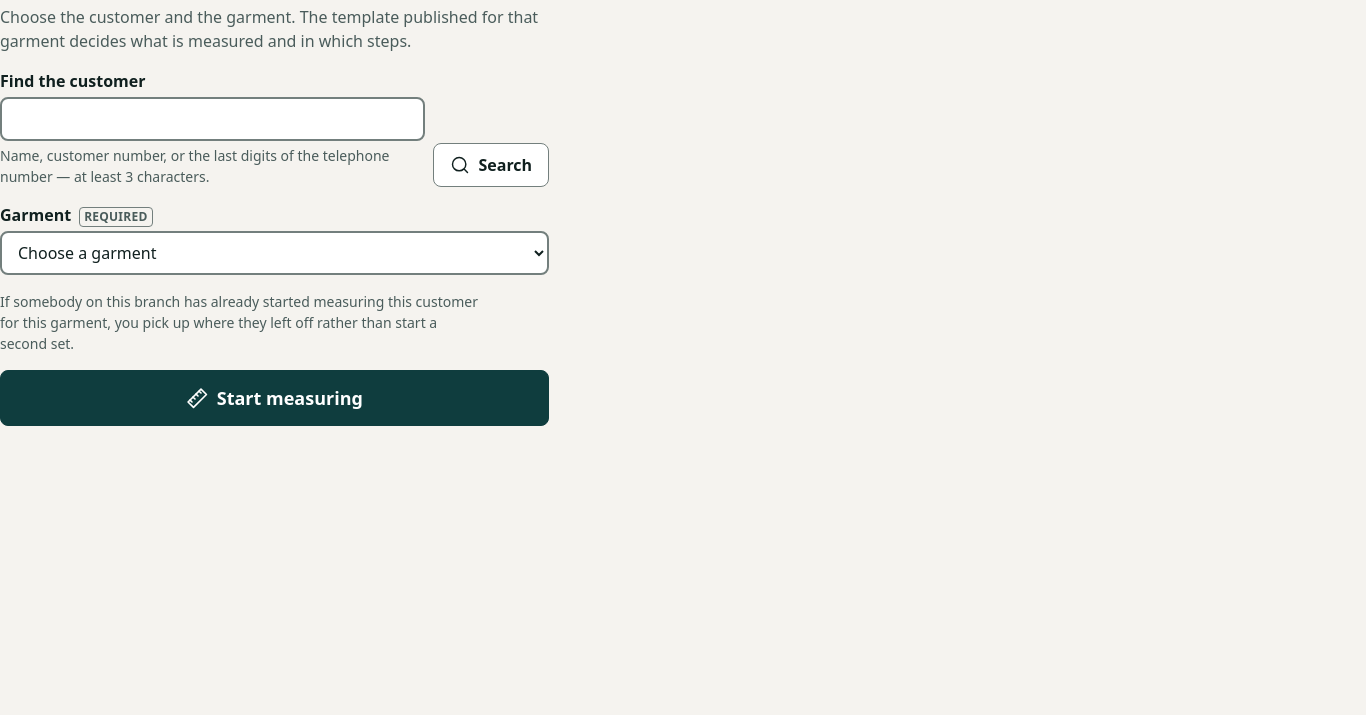
Test: reusing an earlier measurement › abandoning the reuse dialog starts nothing
Type "Asha" into the search field labelled "Find the customer" at [213, 119], box [0,97,426,141]
Then press Enter
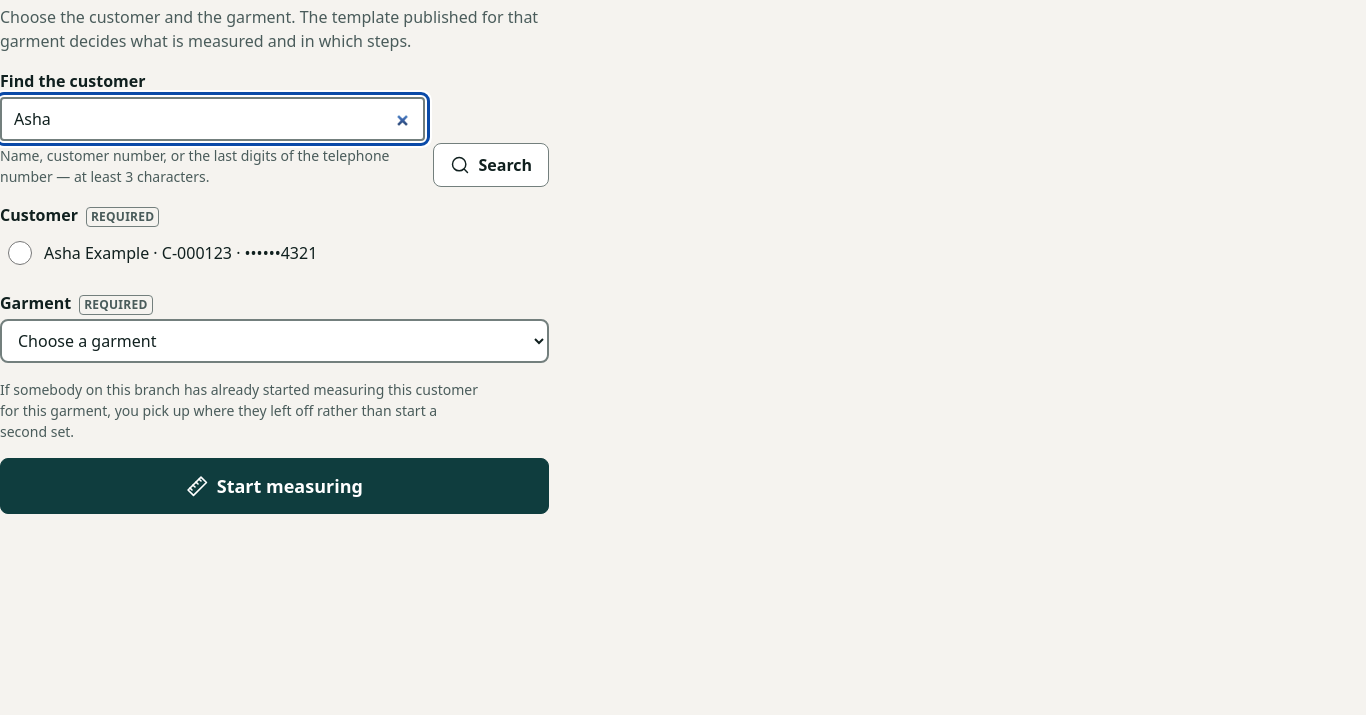
Click the radio button labelled "Asha Example · C-000123 · ••••••4321" at [20, 253], box [8,241,32,265]
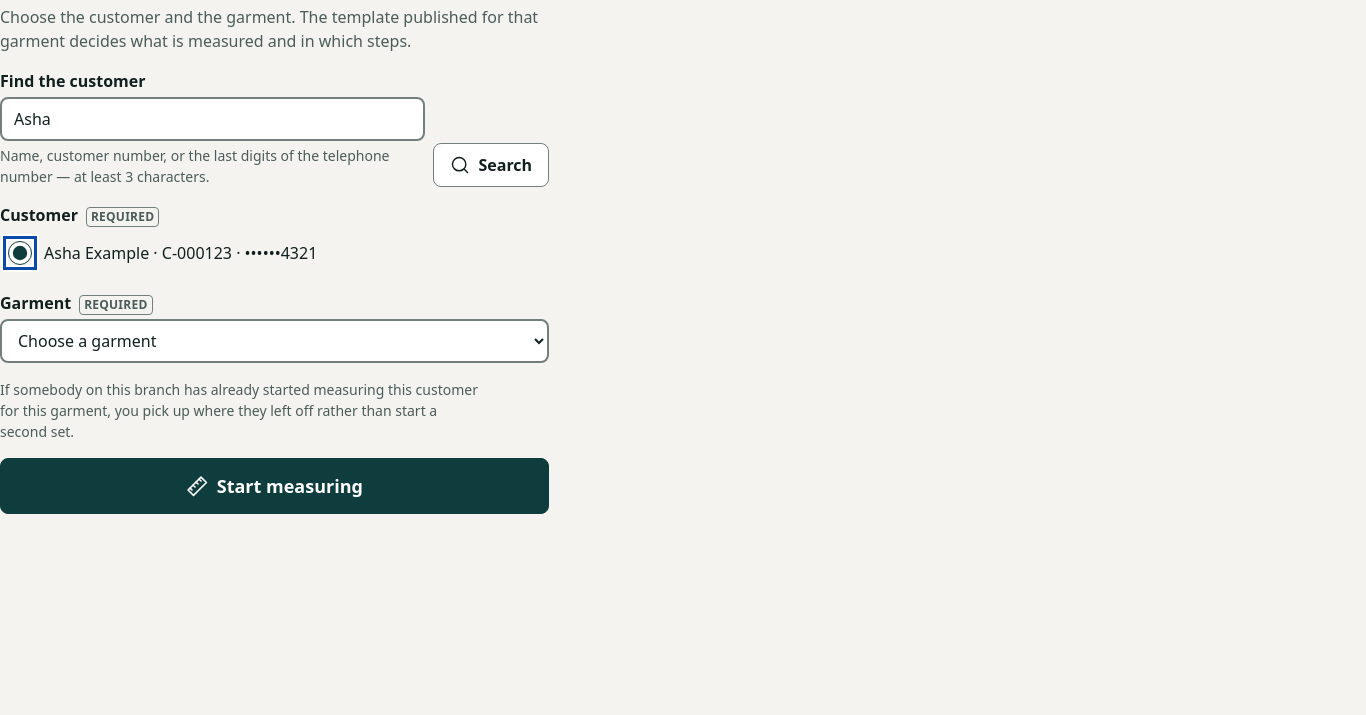
Select "Pattern work — Blouse" in the dropdown labelled "Garment" at [275, 341], box [0,319,549,363]
(page scrolled)
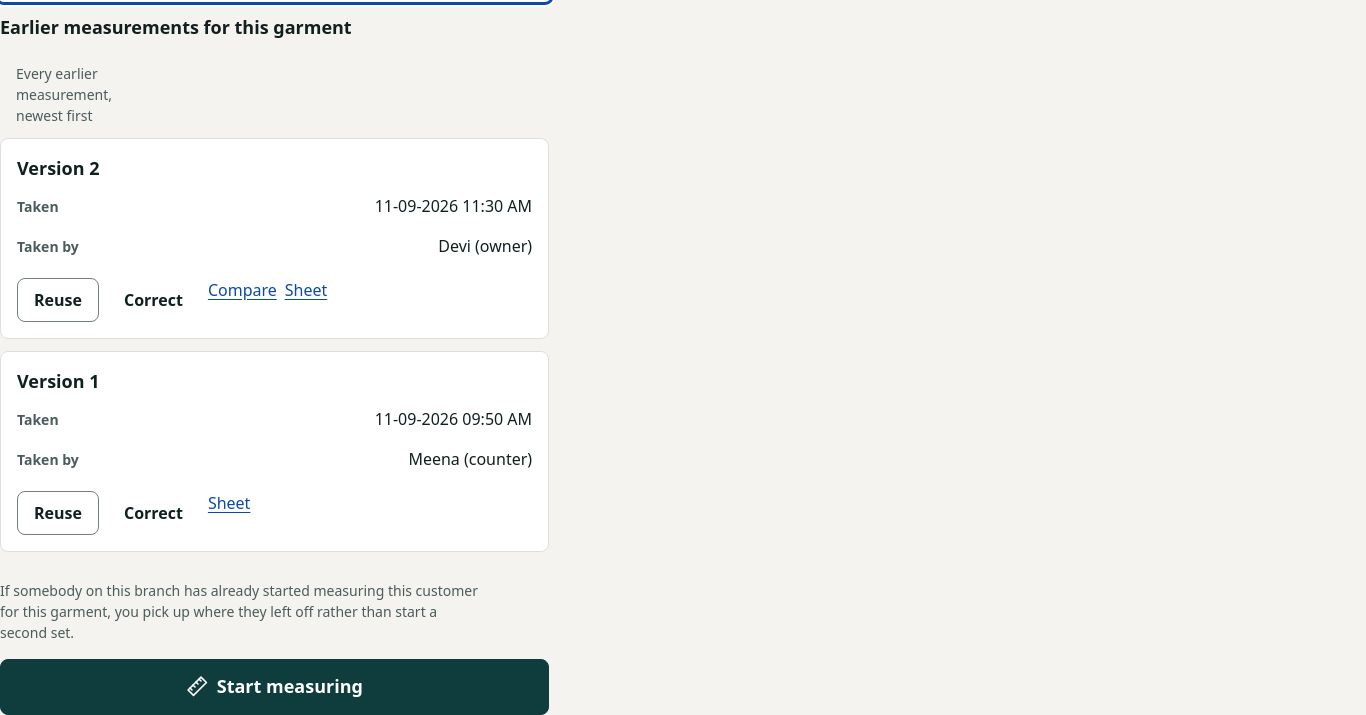
Now the heading "Earlier measurements for this garment" is shown, box [0,15,352,39]
Click the button with aria-label "Reuse version 1" at [58, 513], box [17,491,99,535]
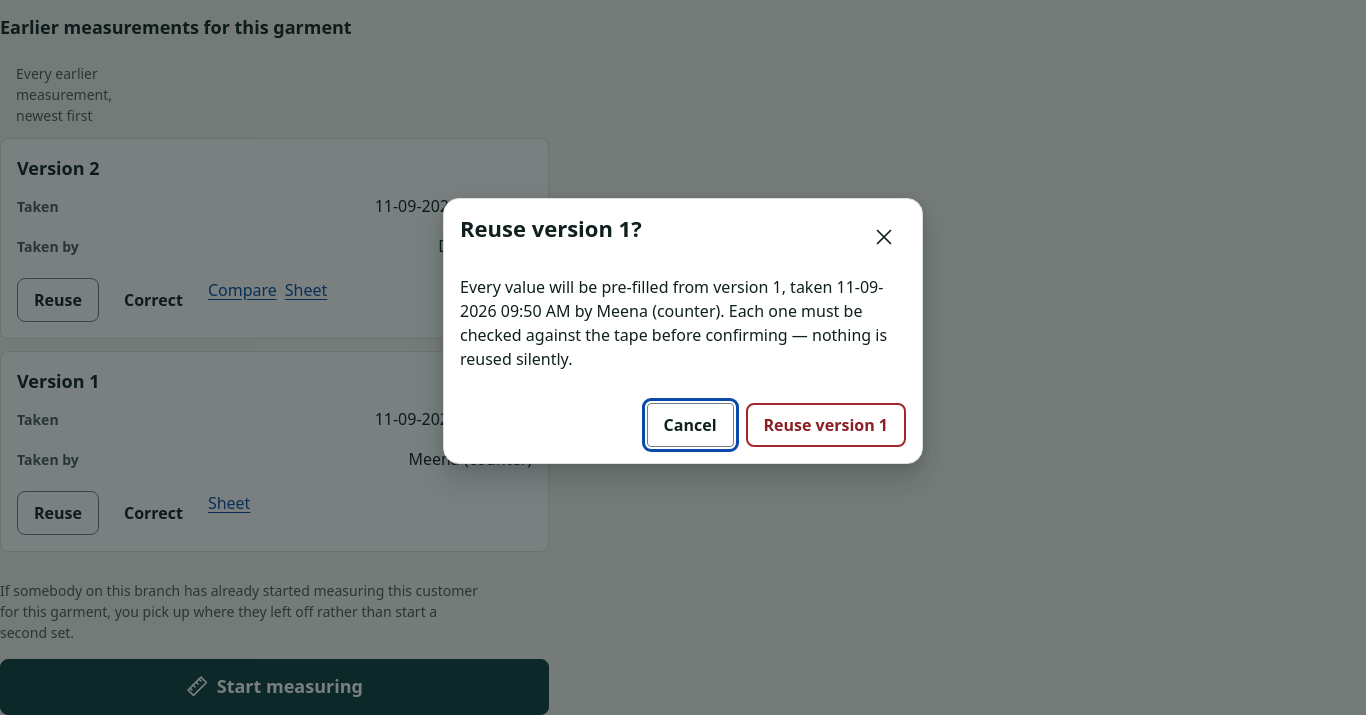
Click the button "Cancel" at [690, 425], box [647,403,734,447]
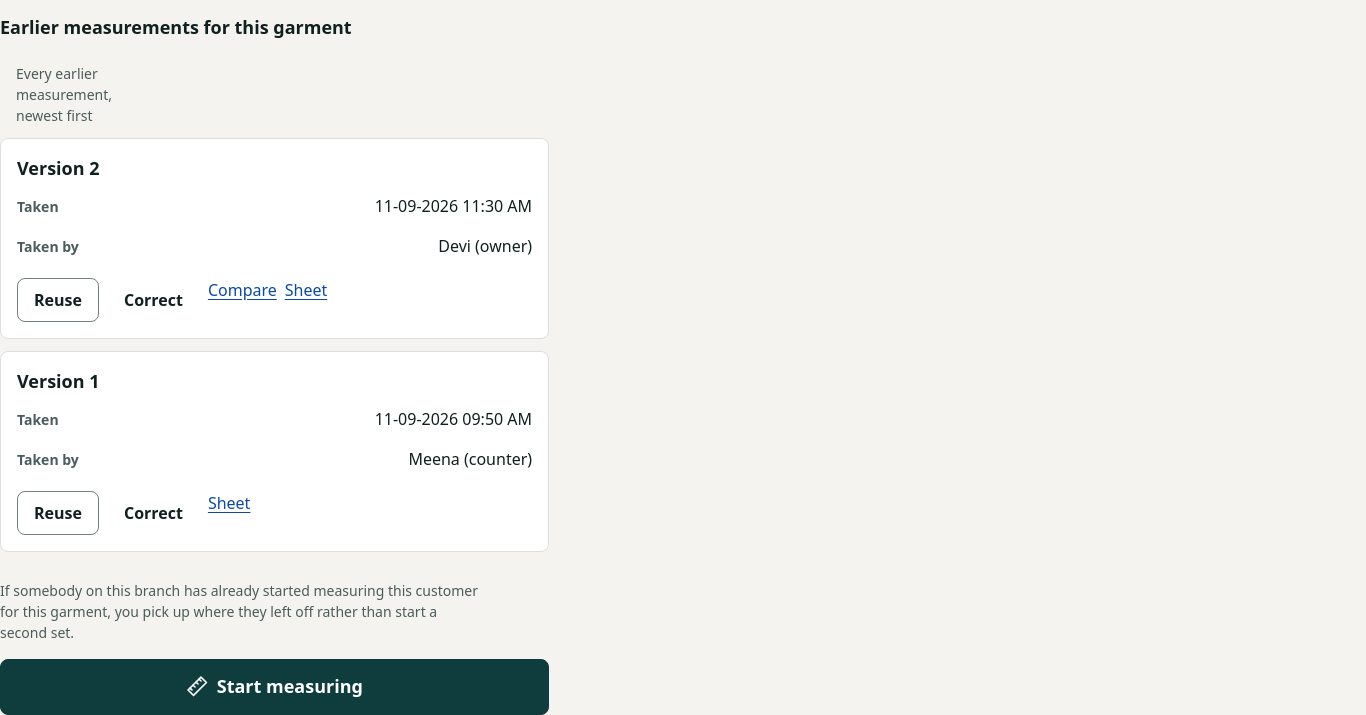
Now the dialog is gone
